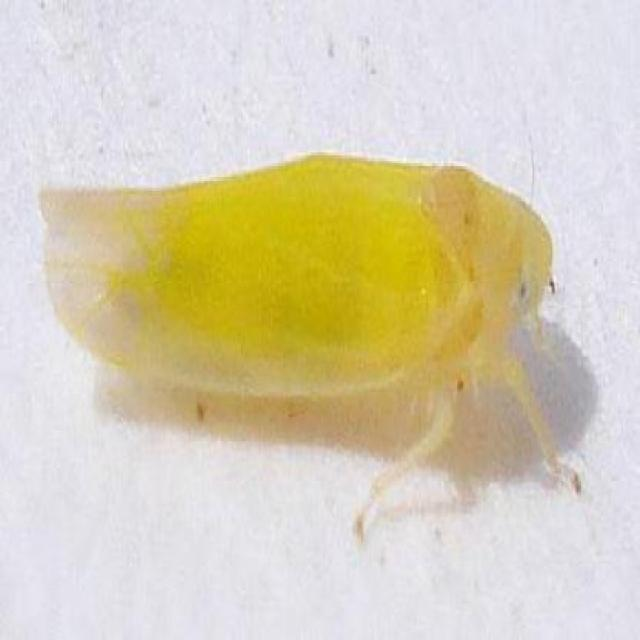green-leafhopper: (37, 152, 578, 537)
